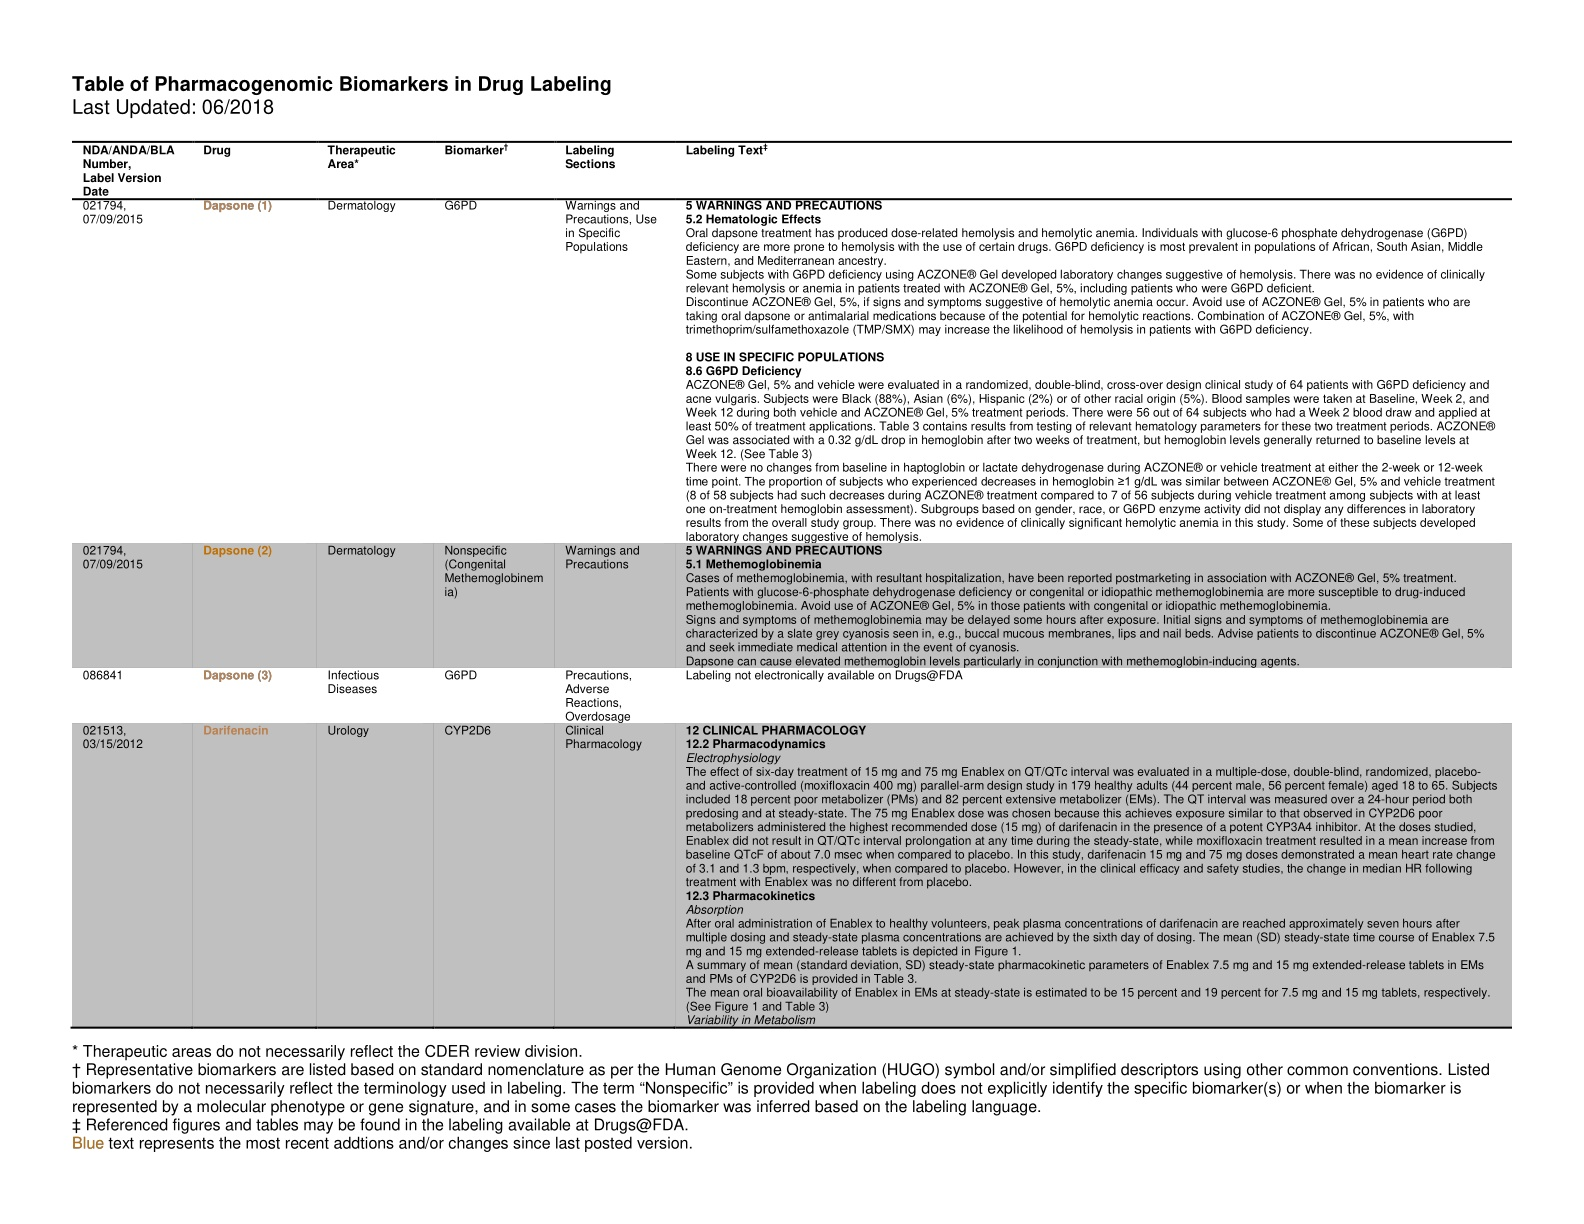partial_lined: (69, 139, 1512, 1029)
